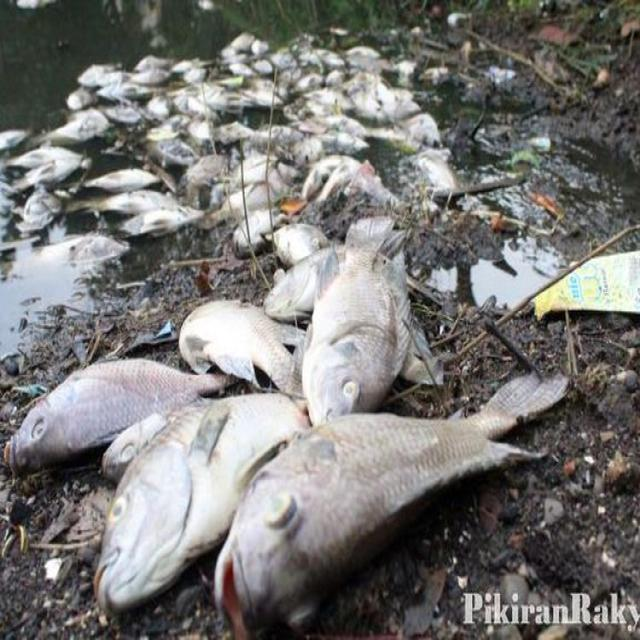Organik: (36, 231, 574, 624)
